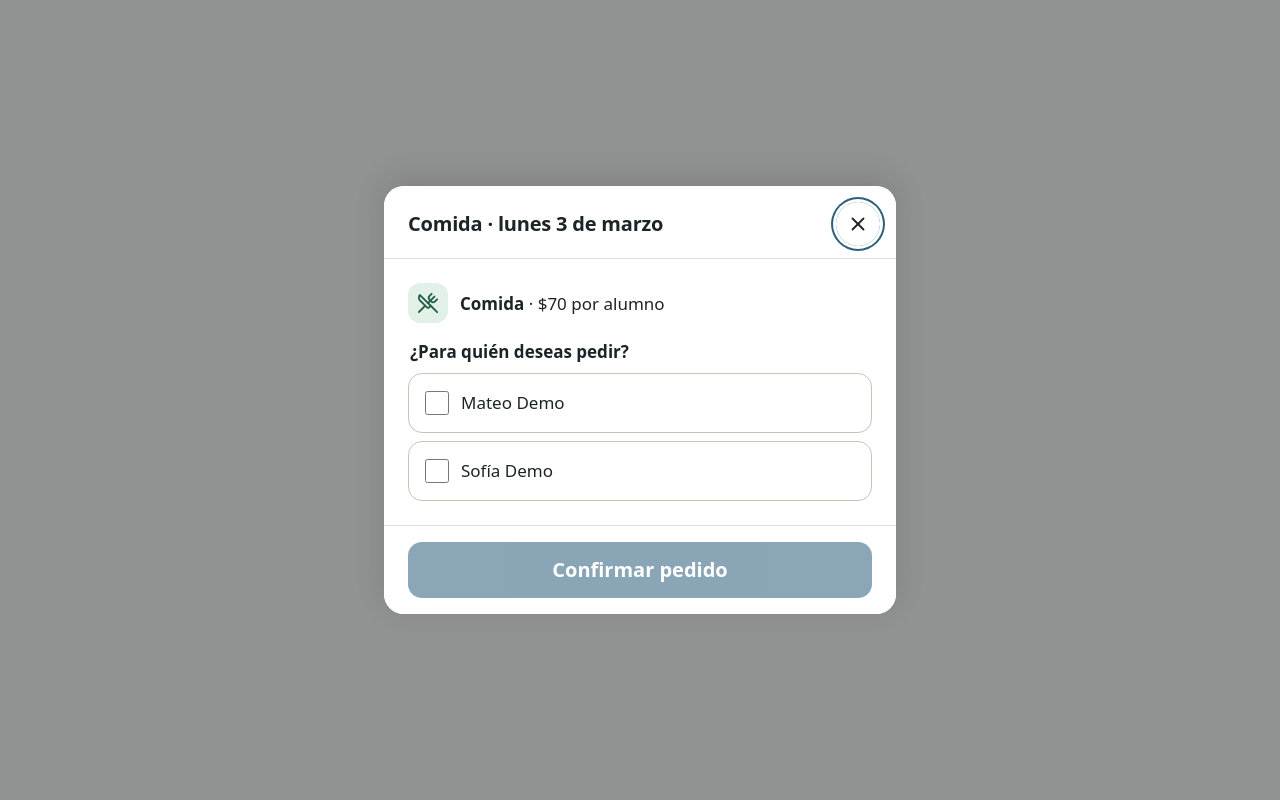
OrderSheet › 20. sin internet NUNCA muestra "Pedido confirmado"
Click the checkbox labelled "Mateo Demo" at (437, 403), box x1=425 y1=391 x2=449 y2=415
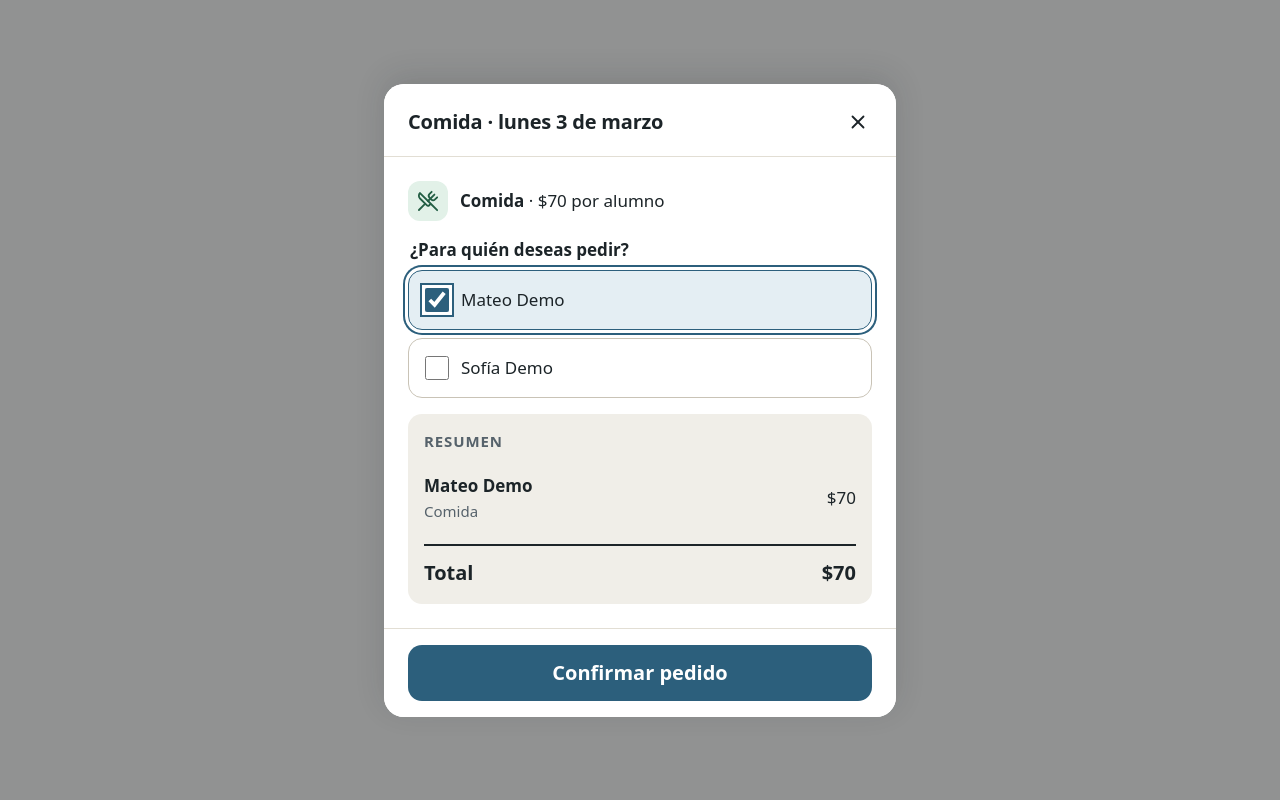
Click the button "Confirmar pedido" at (640, 672), box x1=408 y1=644 x2=872 y2=700
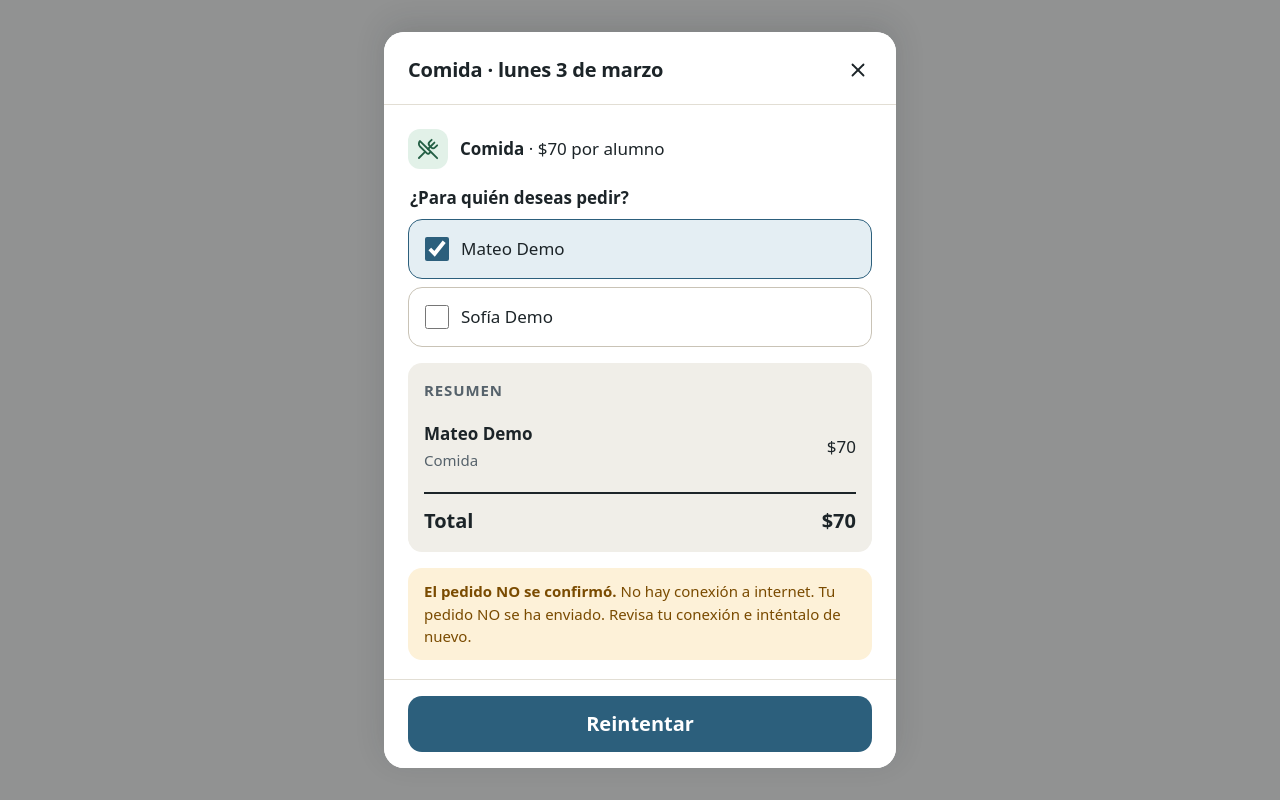
Result: the button "Reintentar" is enabled at x1=408 y1=696 x2=872 y2=752
Result: the text "El pedido NO se confirmó." is shown at x1=424 y1=581 x2=617 y2=601
